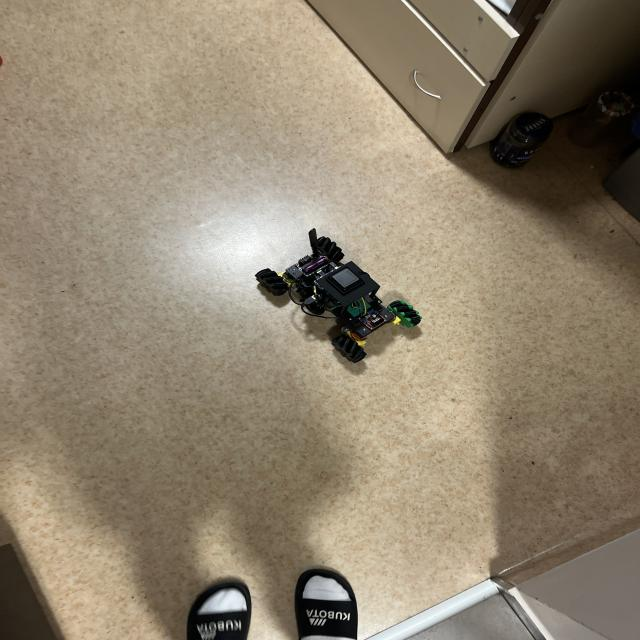robot: (255, 229, 421, 362)
